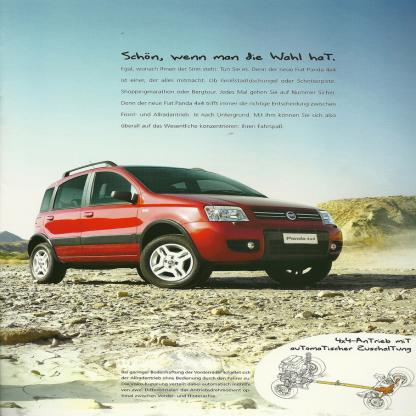Car: (28, 160, 344, 289)
